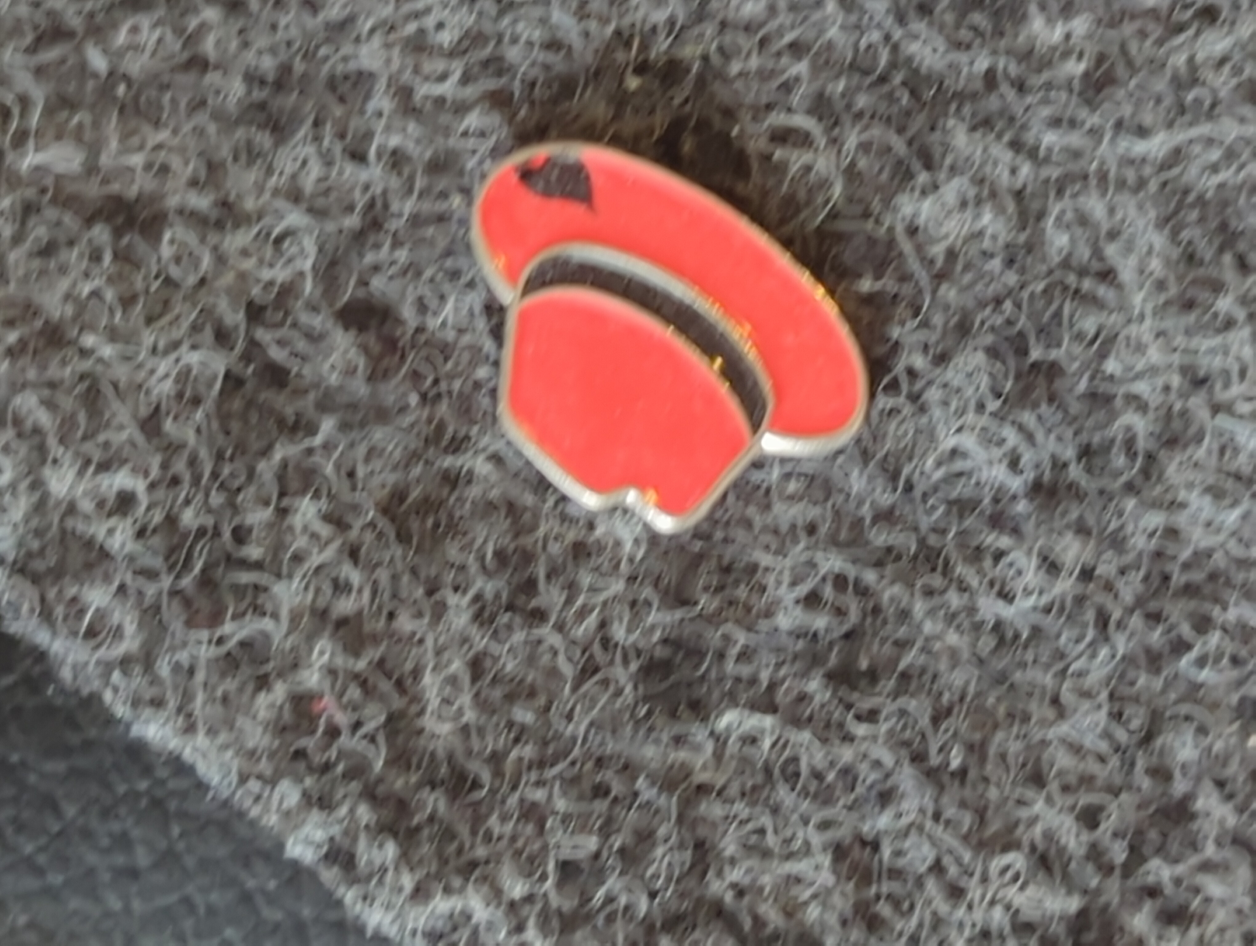Red-Hat: (362, 59, 1028, 639)
Scratch: (483, 120, 631, 231)
